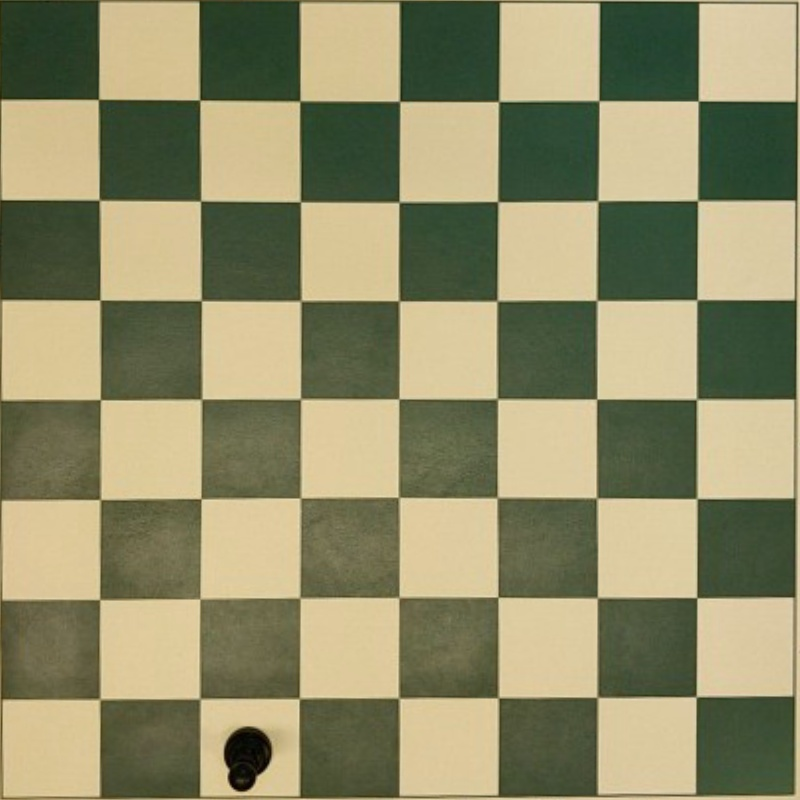black-pawn: (223, 727, 273, 790)
